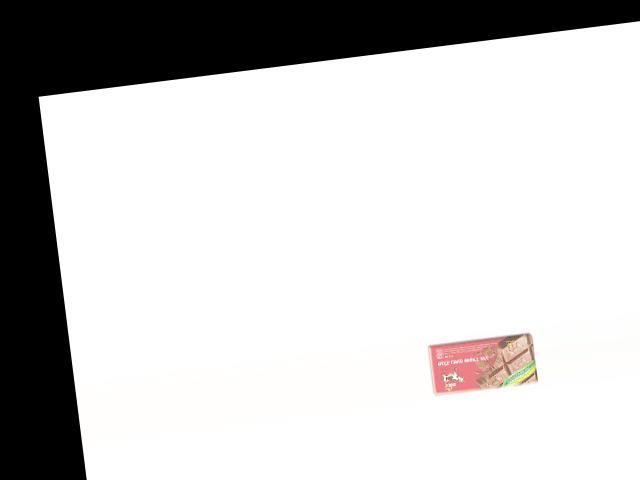chocolate: (425, 329, 538, 397)
